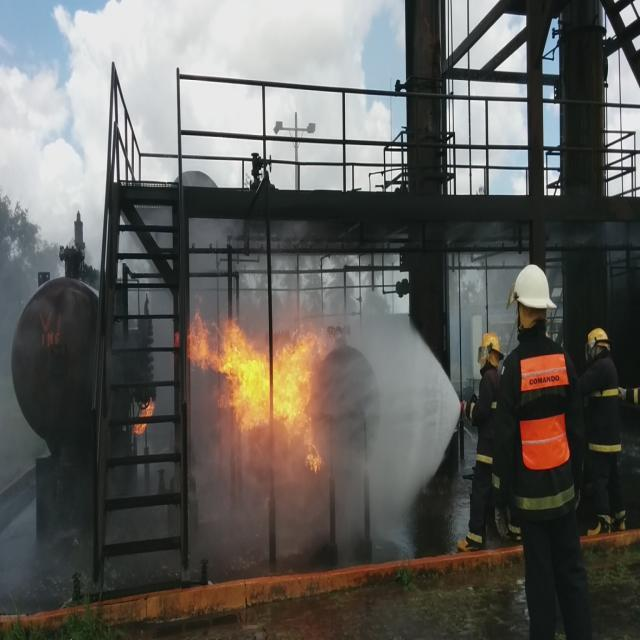Fire: (186, 308, 330, 474)
